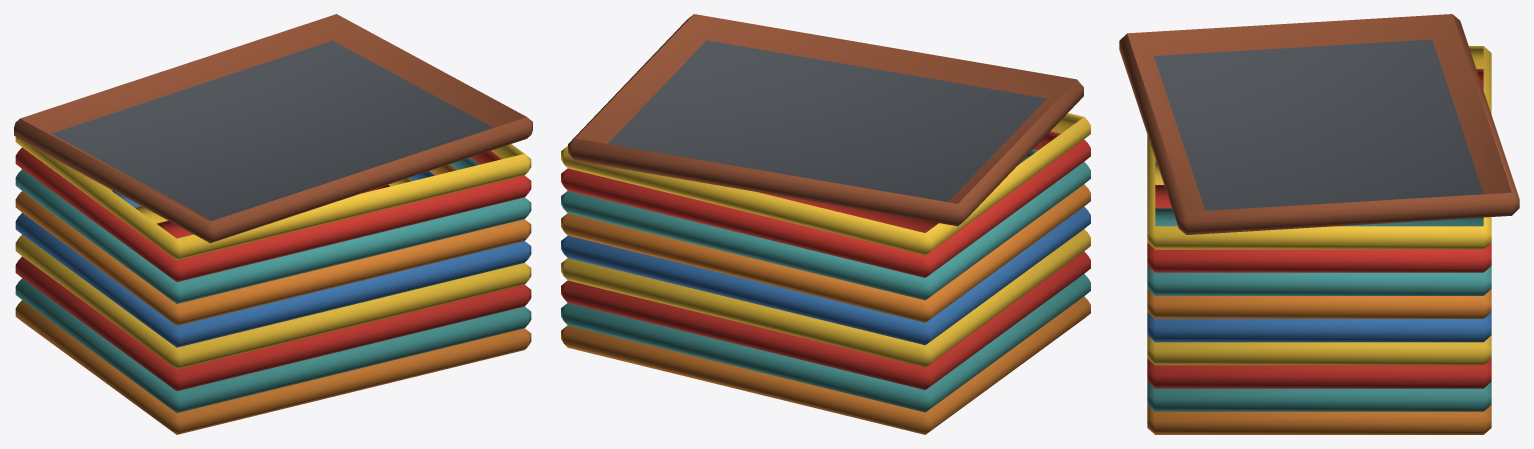
Rendered from SM_TrayStack_01.glb.
3 renders of one model, left to right at view 1: azimuth 30°, elevation 25°; view 2: azimuth 150°, elevation 25°; view 3: azimuth 270°, elevation 25°, orthographic. The views are drawn at different scales.
Parts seen in each view (by area): view 1: SM_TrayStack_01; view 2: SM_TrayStack_01; view 3: SM_TrayStack_01.
Boxes of the visible parts, x1=… form: SM_TrayStack_01: x1=14, y1=14, x2=532, y2=434; SM_TrayStack_01: x1=561, y1=14, x2=1090, y2=434; SM_TrayStack_01: x1=1119, y1=14, x2=1519, y2=434.
Size of the model in its own units: 0.4921 by 0.26 by 0.407.
Materials: 1 (1 with a texture image).
